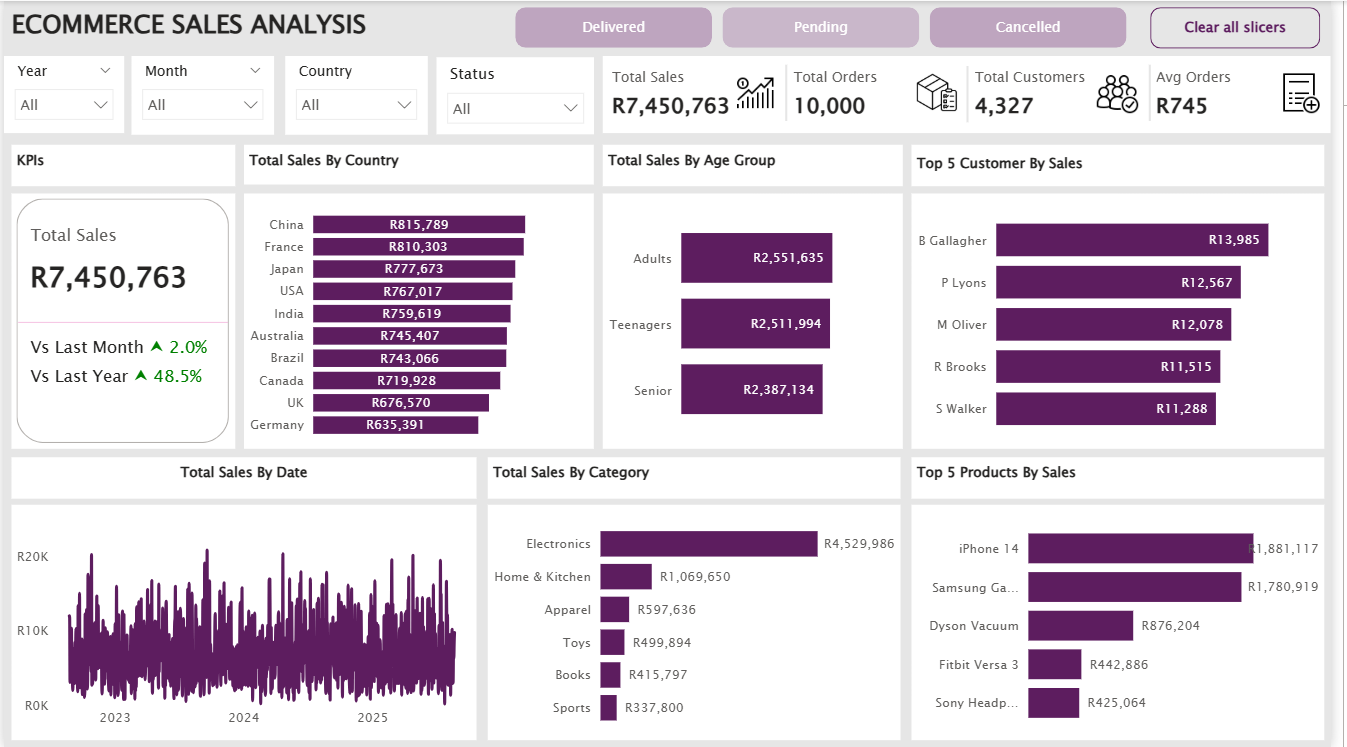

The page's visual inventory and layout, read from the dashboard file:
{"tool":"powerbi","page":{"name":"Overview","canvas":[1280,720],"ordinal":0},"visuals":[{"type":"cardVisual","fields":{"Data":["My Measures.Total Sales","My Measures.Total Orders","My Measures.Total Customers","My Measures.Avg Order Values"]},"box":[577.9,53.1,702.1,74.8],"z":0,"group":"g1"},{"type":"barChart","fields":{"Category":["eCommerceData.country"],"Y":["My Measures.Total Sales"]},"box":[231.6,185.8,337.8,246.1],"z":0},{"type":"group","id":"g1","title":"Group 1","box":[577.9,53.1,702.1,74.8],"z":1000},{"type":"barChart","fields":{"Y":["My Measures.Total Sales"],"Category":["eCommerceData.category"]},"box":[466.9,486.2,398.1,226.8],"z":2000},{"type":"barChart","fields":{"Y":["My Measures.Total Sales"],"Category":["eCommerceData.product_name"]},"box":[875.9,486.2,398.1,226.8],"z":3000},{"type":"shape","box":[702.3,60.9,105.7,54.3],"z":3500,"group":"g1"},{"type":"shape","box":[1051.9,61.5,107.7,54.3],"z":4000,"group":"g1"},{"type":"barChart","fields":{"Y":["My Measures.Total Sales"],"Category":["eCommerceData.Full Name"]},"box":[875.9,185.8,398.1,246.1],"z":4000},{"type":"shape","box":[877.1,62.2,105.7,54.3],"z":4500,"group":"g1"},{"type":"lineChart","fields":{"Y":["My Measures.Total Sales"],"Category":["DateTable.Date"]},"box":[7.2,486.2,448.8,226.8],"z":5000},{"type":"slicer","fields":{"Values":["eCommerceData.country"]},"box":[271.4,53.1,137.5,76],"z":6000},{"type":"slicer","fields":{"Values":["DateTable.Year"]},"box":[0,53.1,115.8,74.8],"z":7000},{"type":"slicer","fields":{"Values":["DateTable.Month Name"]},"box":[123.1,53.1,137.5,76],"z":8000},{"type":"cardVisual","fields":{"Data":["My Measures.Total Sales"]},"box":[7.2,185.8,216,246.1],"z":9000},{"type":"textbox","box":[7.2,138.7,216,39.8],"z":10000},{"type":"textbox","box":[231.6,138.7,337.8,38.6],"z":11000},{"type":"textbox","box":[466.9,440.4,398.1,39.8],"z":12000},{"type":"textbox","box":[7.2,440.4,448.8,39.8],"z":13000},{"type":"textbox","box":[875.9,440.4,398.1,39.8],"z":14000},{"type":"textbox","box":[875.9,138.7,398.1,39.8],"z":15000},{"type":"clusteredBarChart","fields":{"Category":["eCommerceData.age_group"],"Y":["My Measures.Total Sales"]},"box":[577.9,185.8,289.5,246.1],"z":16000},{"type":"textbox","box":[577.9,138.7,289.5,39.8],"z":17000},{"type":"textbox","box":[7.2,0,435.5,54.3],"z":18000},{"type":"slicer","fields":{"Values":["eCommerceData.Group Status"]},"box":[417.4,54.3,152,74.8],"z":19000},{"type":"actionButton","box":[1106.3,6,164.1,39.8],"z":20000},{"type":"bookmarkNavigator","box":[493.4,6,591.2,39.8],"z":21000}]}

Visuals, with their boxes in screenshot pixels (x1, y1, x2, y2), scaled from the page's 1280x720 canvas onto the 1347x747 screenshot:
cardVisual - My Measures.Total Sales x My Measures.Total Orders: <bbox>608, 55, 1346, 133</bbox>
barChart - eCommerceData.country x My Measures.Total Sales: <bbox>244, 193, 599, 448</bbox>
"Group 1" group: <bbox>608, 55, 1346, 133</bbox>
barChart - My Measures.Total Sales x eCommerceData.category: <bbox>491, 504, 910, 740</bbox>
barChart - My Measures.Total Sales x eCommerceData.product_name: <bbox>922, 504, 1341, 740</bbox>
shape: <bbox>739, 63, 850, 120</bbox>
shape: <bbox>1107, 64, 1220, 120</bbox>
barChart - My Measures.Total Sales x eCommerceData.Full Name: <bbox>922, 193, 1341, 448</bbox>
shape: <bbox>923, 65, 1034, 121</bbox>
lineChart - My Measures.Total Sales x DateTable.Date: <bbox>8, 504, 480, 740</bbox>
slicer - eCommerceData.country: <bbox>286, 55, 430, 134</bbox>
slicer - DateTable.Year: <bbox>0, 55, 122, 133</bbox>
slicer - DateTable.Month Name: <bbox>130, 55, 274, 134</bbox>
cardVisual - My Measures.Total Sales: <bbox>8, 193, 235, 448</bbox>
textbox: <bbox>8, 144, 235, 185</bbox>
textbox: <bbox>244, 144, 599, 184</bbox>
textbox: <bbox>491, 457, 910, 498</bbox>
textbox: <bbox>8, 457, 480, 498</bbox>
textbox: <bbox>922, 457, 1341, 498</bbox>
textbox: <bbox>922, 144, 1341, 185</bbox>
clusteredBarChart - eCommerceData.age_group x My Measures.Total Sales: <bbox>608, 193, 913, 448</bbox>
textbox: <bbox>608, 144, 913, 185</bbox>
textbox: <bbox>8, 0, 466, 56</bbox>
slicer - eCommerceData.Group Status: <bbox>439, 56, 599, 134</bbox>
actionButton: <bbox>1164, 6, 1337, 48</bbox>
bookmarkNavigator: <bbox>519, 6, 1141, 48</bbox>
